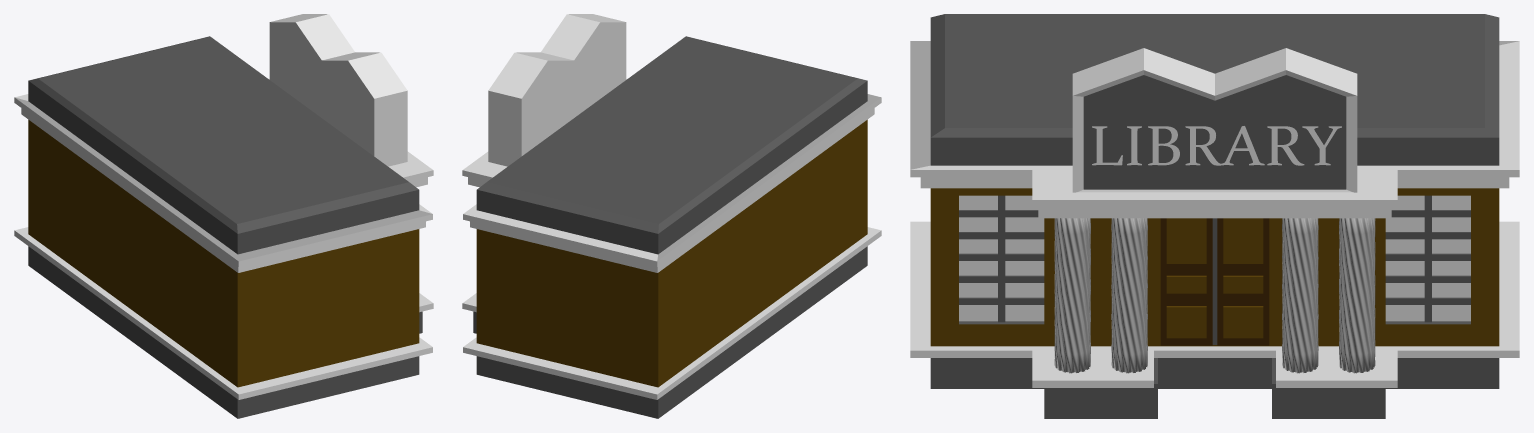
File: LibraryEntrace.fbx
3 views of the same model, side by side, from view 1: azimuth 30°, elevation 25°; view 2: azimuth 150°, elevation 25°; view 3: azimuth 270°, elevation 25° (orthographic). The views are drawn at different scales.
Parts seen in each view (by area): view 1: Cube, Cube.003; view 2: Cube, Cube.003; view 3: Cube, Cube.003, Cube.004, Cylinder.003, Cylinder.001, Cylinder.002, Cylinder.004, Cube.001, Cube.002, Text, Cube.005, Cube.010 (+4 smaller).
Part boxes in pixels (x1=…): Cube: x1=14, y1=36, x2=433, y2=418; Cube.003: x1=269, y1=14, x2=407, y2=166; Cube: x1=462, y1=36, x2=881, y2=418; Cube.003: x1=488, y1=14, x2=626, y2=166; Cube: x1=910, y1=14, x2=1519, y2=418; Cube.003: x1=1072, y1=48, x2=1357, y2=192; Cube.004: x1=1160, y1=218, x2=1269, y2=345; Cylinder.003: x1=1282, y1=218, x2=1318, y2=373; Cylinder.001: x1=1111, y1=218, x2=1147, y2=373; Cylinder.002: x1=1054, y1=218, x2=1090, y2=373; Cylinder.004: x1=1339, y1=218, x2=1375, y2=373; Cube.001: x1=959, y1=195, x2=1044, y2=322; Cube.002: x1=1385, y1=195, x2=1470, y2=322; Text: x1=1092, y1=126, x2=1341, y2=165; Cube.005: x1=1166, y1=218, x2=1206, y2=263; Cube.010: x1=1223, y1=218, x2=1263, y2=263.
Bounding box in the file's own units: 264 × 268 × 428.
